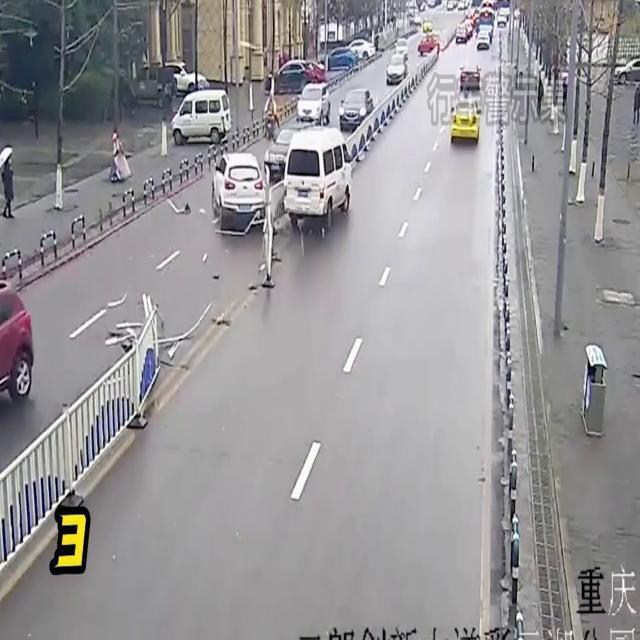accident: (210, 124, 352, 228), (286, 125, 350, 227), (211, 153, 271, 233)
non-accident: (266, 58, 328, 94), (327, 36, 378, 66)
